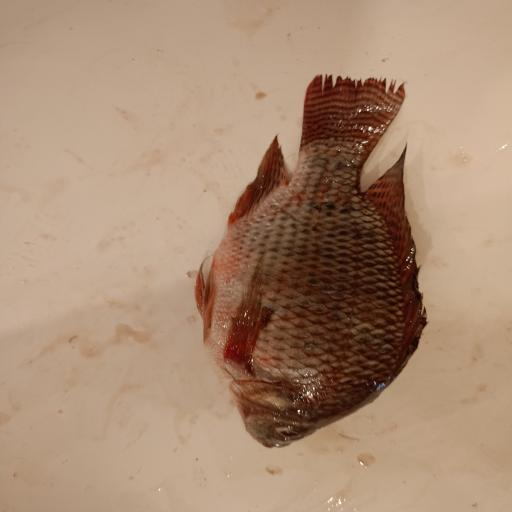Tilapia: (195, 75, 428, 450)
